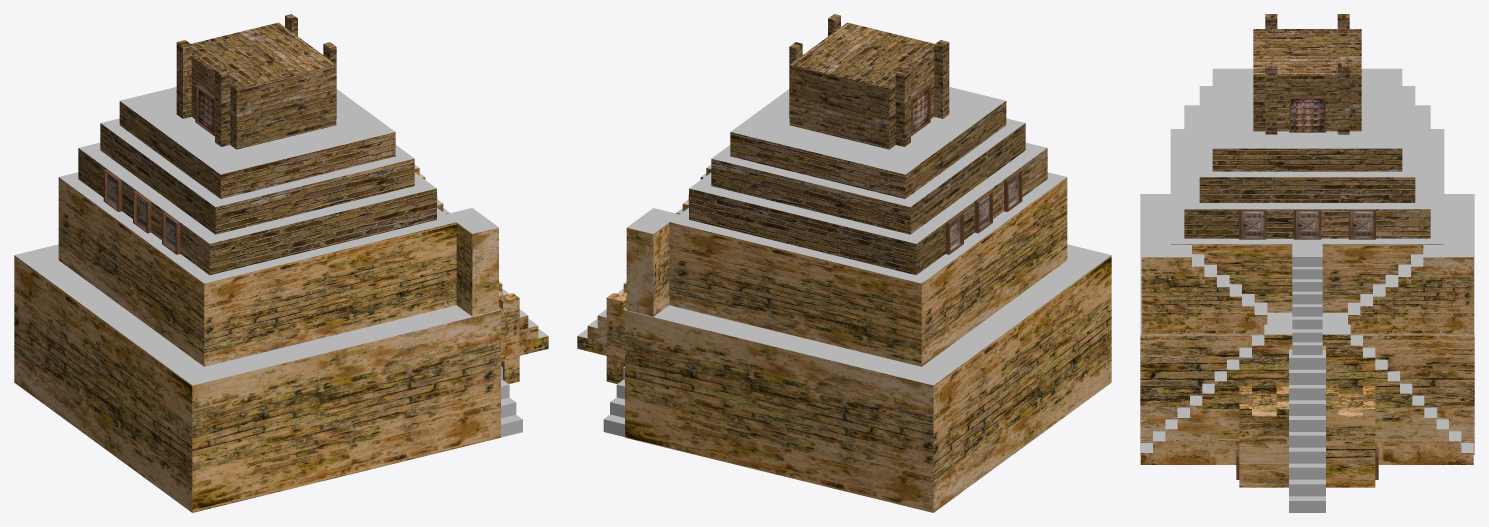
The model's file is sumerian_academy.fbx.
The picture shows the model from 3 angles, left to right: view 1: azimuth 30°, elevation 25°; view 2: azimuth 150°, elevation 25°; view 3: azimuth 270°, elevation 25°; orthographic projection. The views are drawn at different scales.
Visible parts, largest first — view 1: Cube; view 2: Cube; view 3: Cube.
Part boxes in pixels (<box>): Cube: <box>14,14,548,512</box>; Cube: <box>577,14,1111,512</box>; Cube: <box>1140,14,1474,512</box>.
Size of the model in its own units: 1664 by 1336 by 1179.
